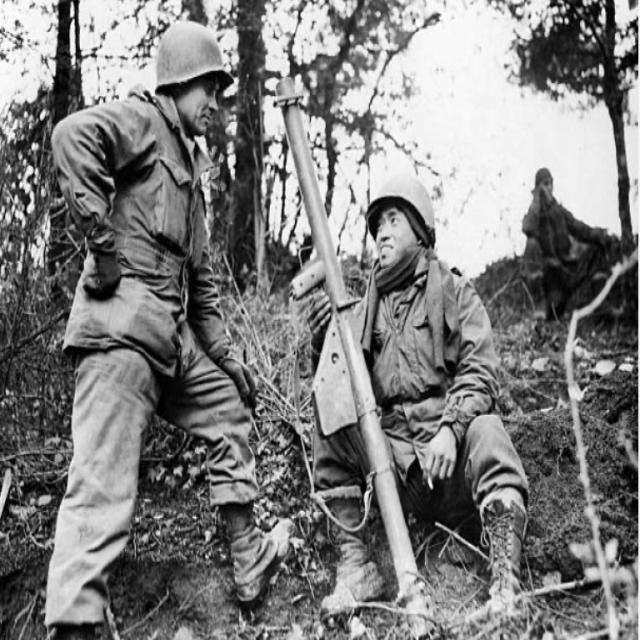bazooka: (274, 75, 442, 640)
